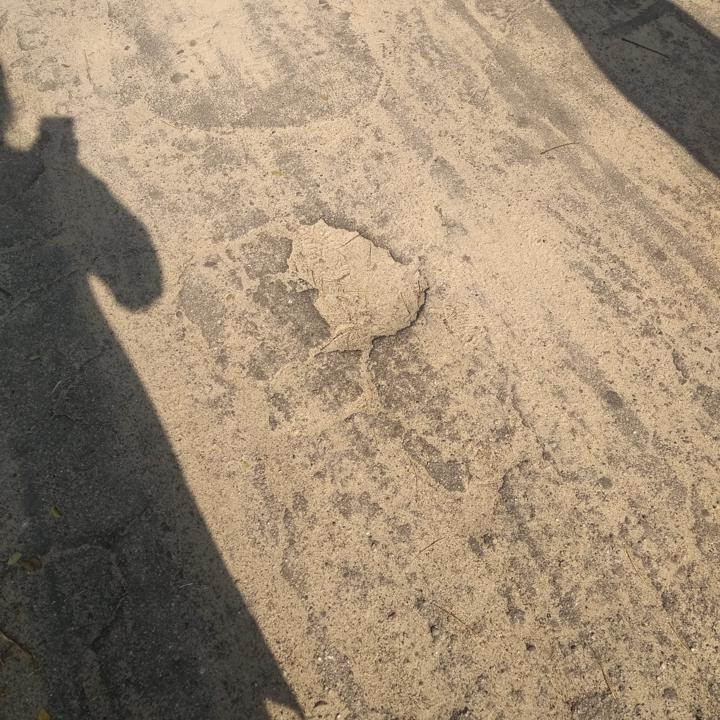pothole: (276, 213, 436, 355)
